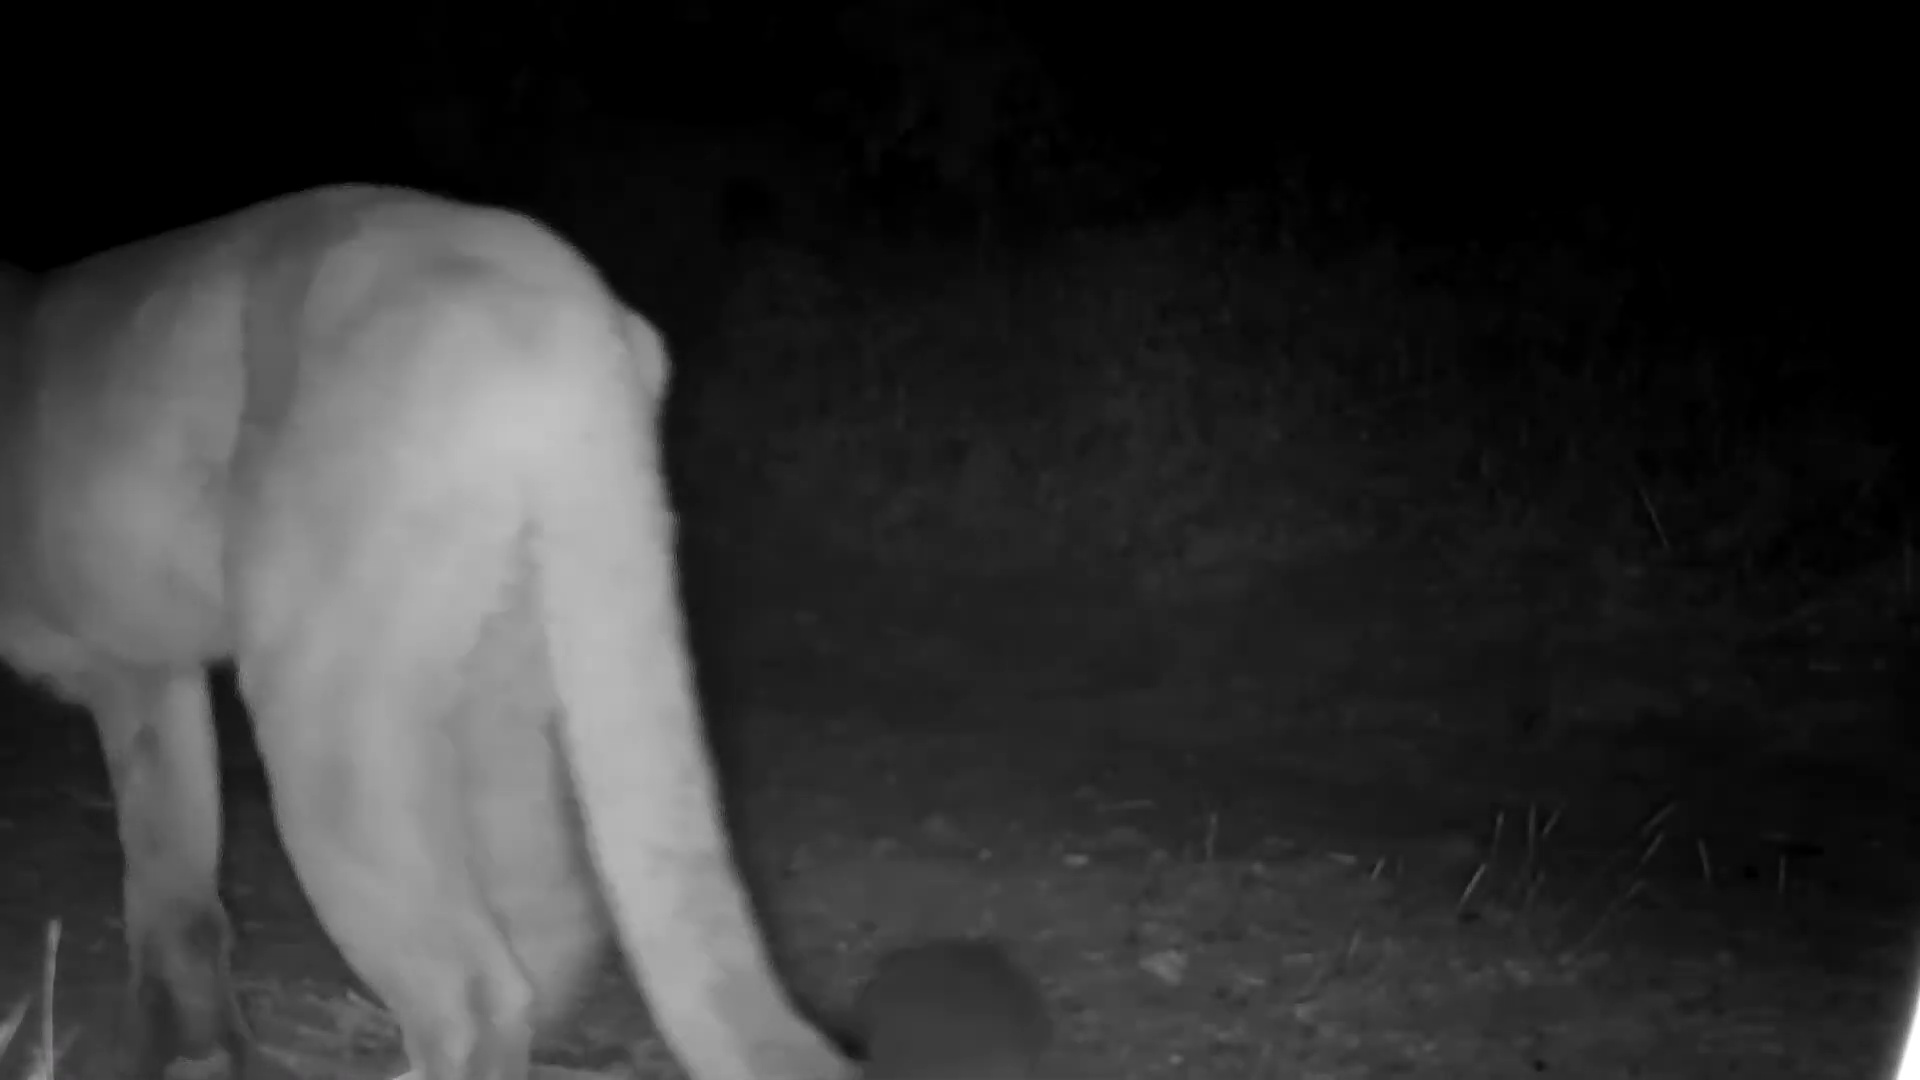Lion: (3, 175, 895, 1080)
